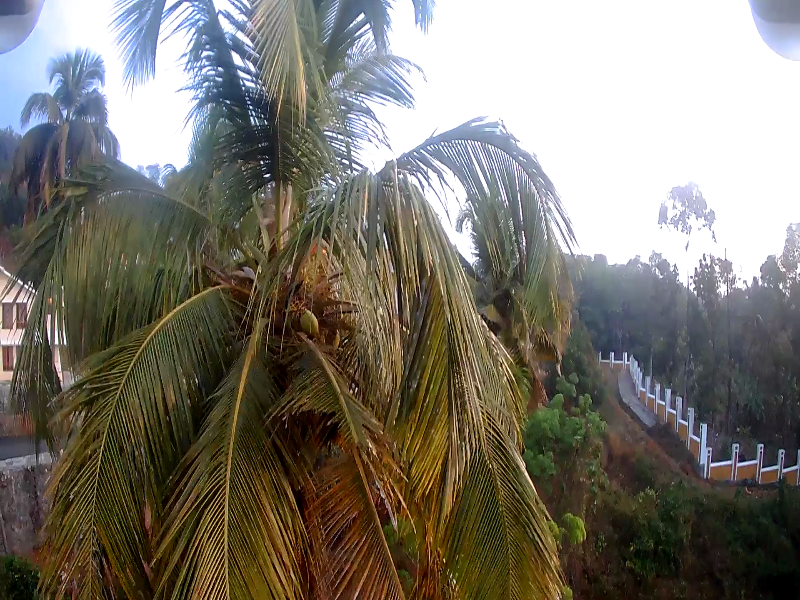coconut: (297, 307, 321, 338)
